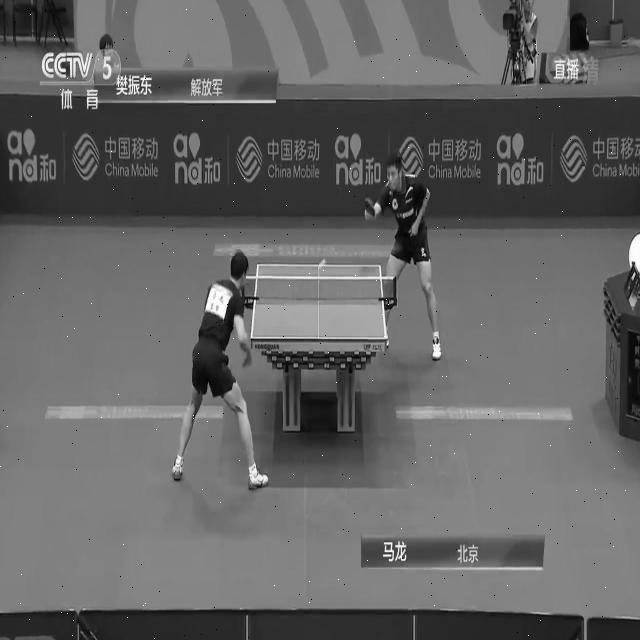ping-pong-ball: (316, 256, 324, 270)
